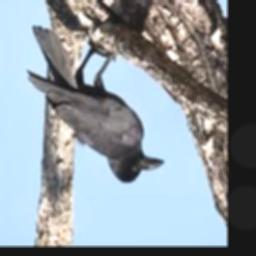Crow: (27, 24, 166, 183)
